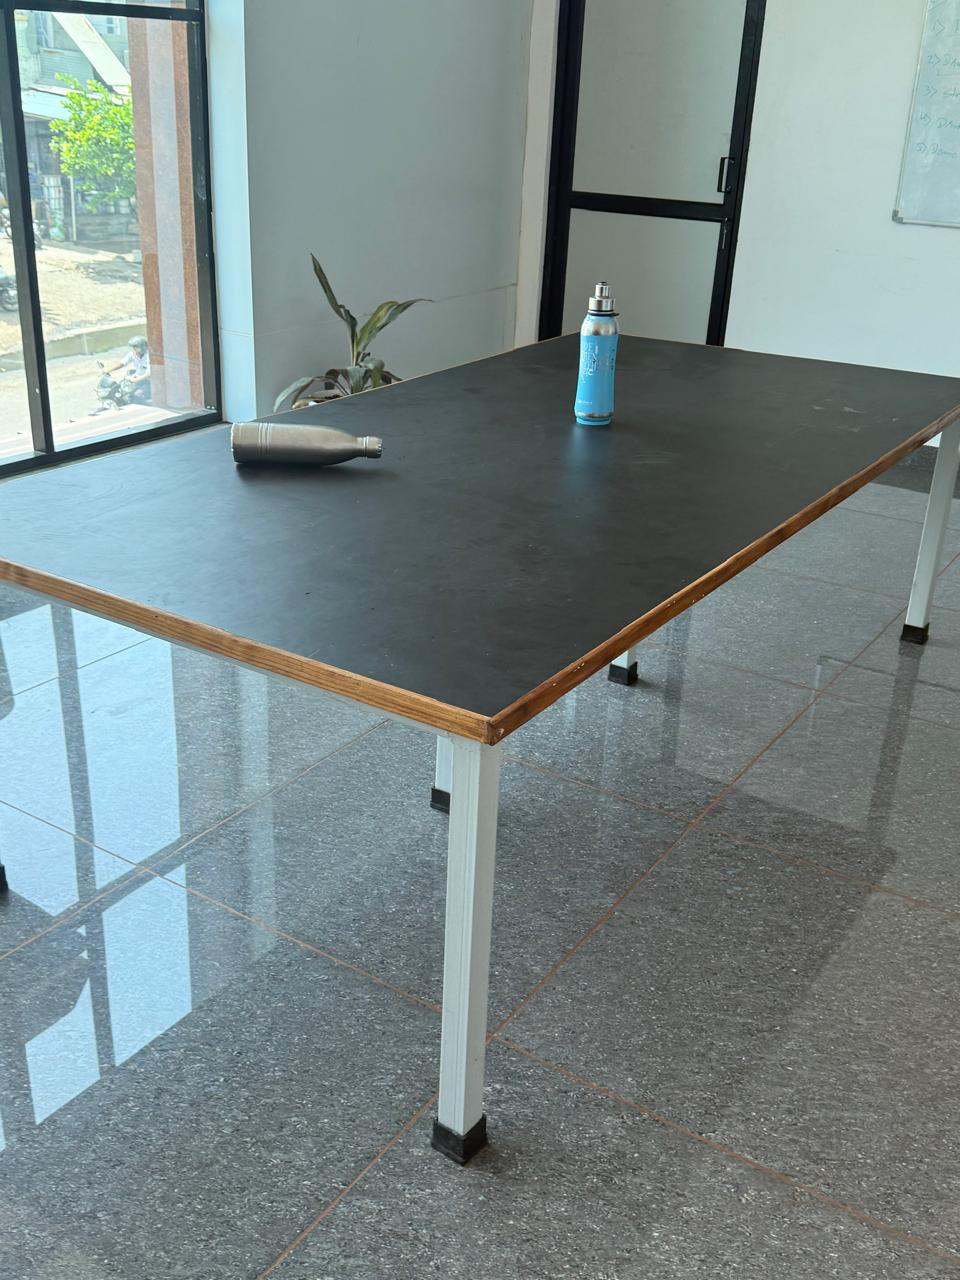bottle_on_table: (561, 276, 652, 437), (196, 410, 413, 476)
